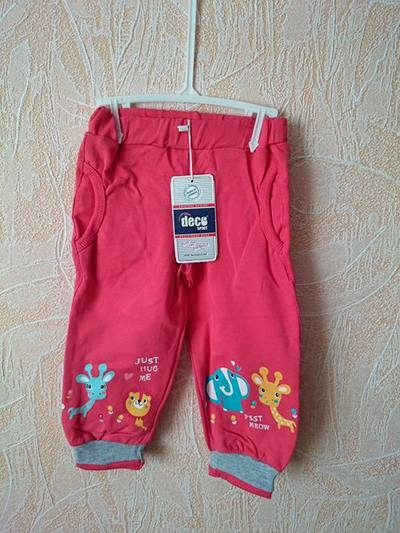Pants: (49, 86, 337, 504)
